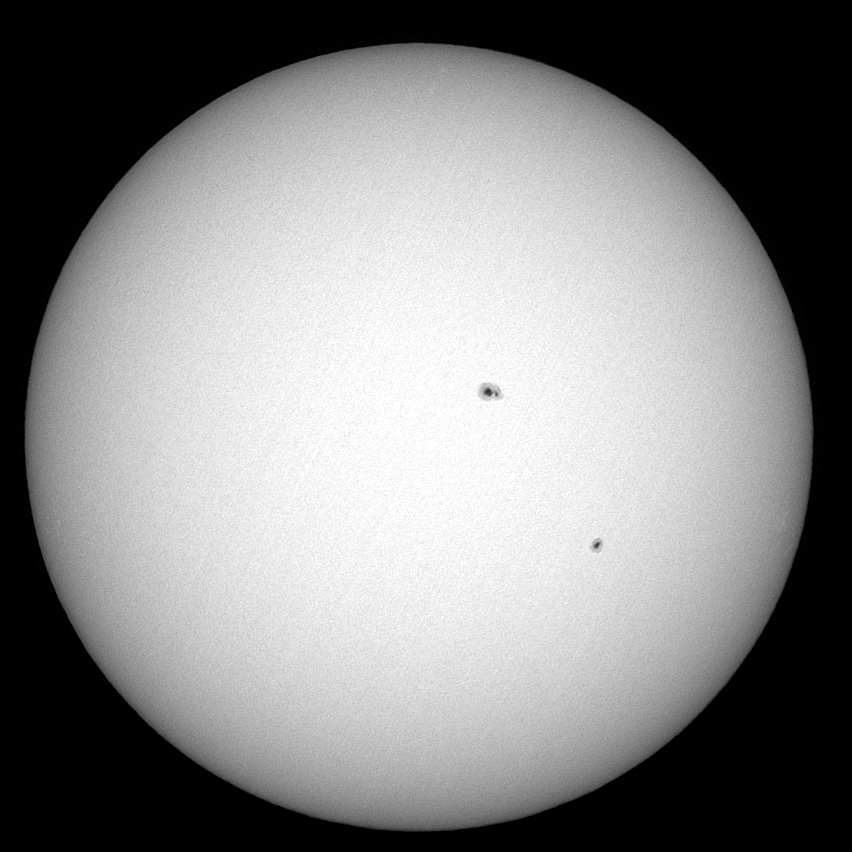sunspot: (475, 380, 504, 401), (587, 535, 608, 554)
